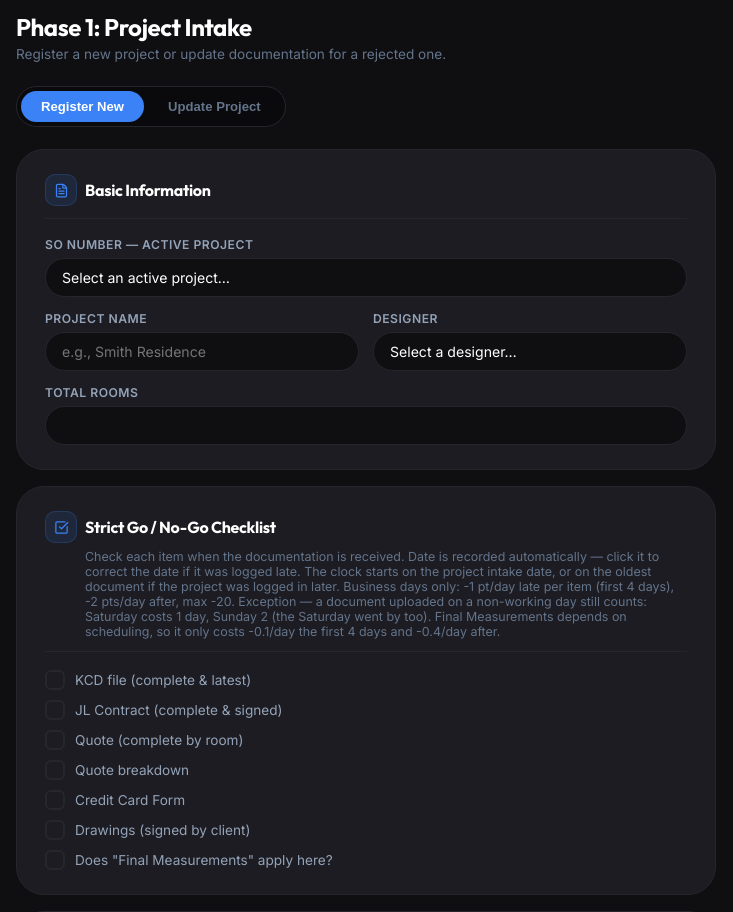
Scenario: cambiar de proyecto en Register New › no arrastra el diseñador del proyecto anterior
Select "#1001 — Alpha Residence (Monica Gabriel)" in the dropdown named "soNumber" below "SO Number — Active Project": coordinates (366, 278) [45,258,687,297]
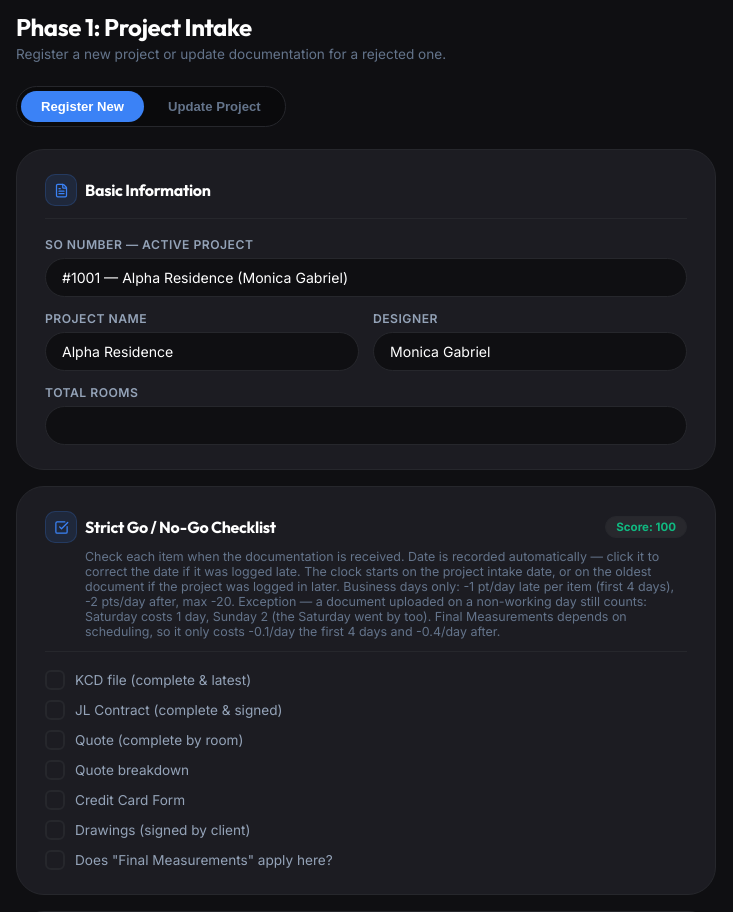
Expected: the dropdown named "designerName" below "Project Name" shows "Monica Gabriel", [373,332,687,371]
Select "#1002 — Beta Residence" in the dropdown named "soNumber" below "SO Number — Active Project": coordinates (366, 278) [45,258,687,297]
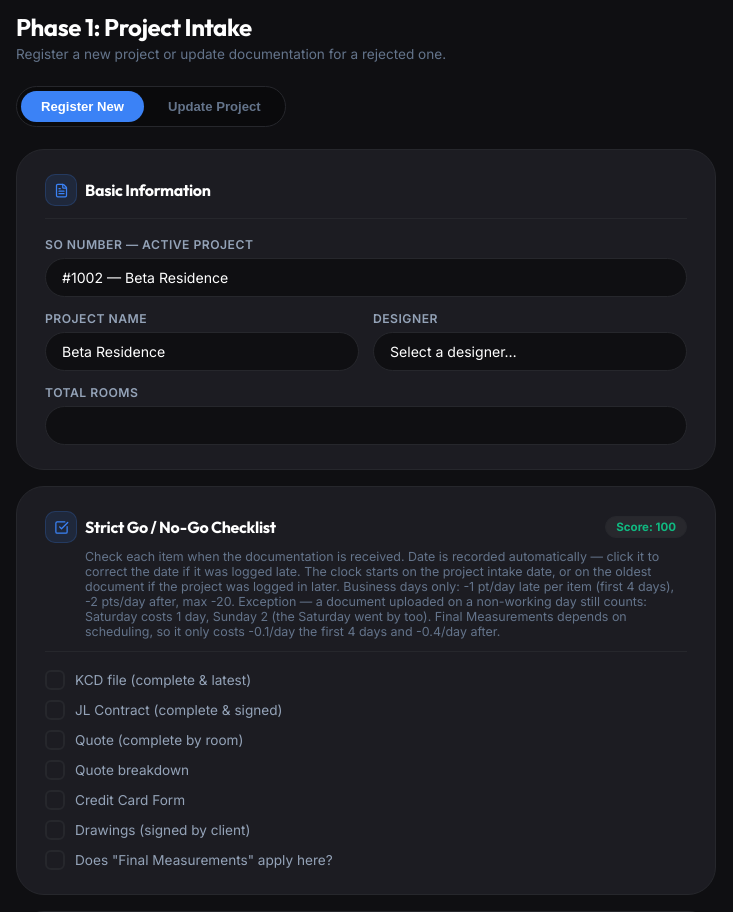
Expected: the dropdown named "designerName" below "Project Name" shows "Select a designer…", [373,332,687,371]
